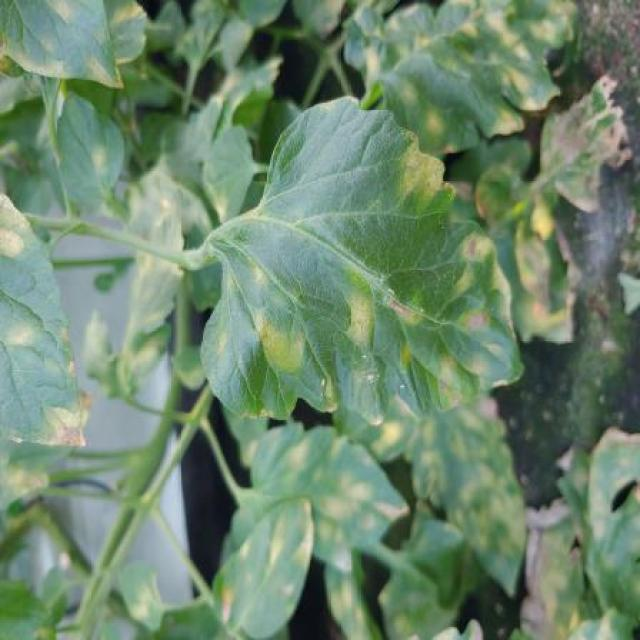Leaf Mold: (201, 97, 523, 429), (364, 1, 579, 158), (250, 418, 410, 573), (210, 497, 314, 640)
